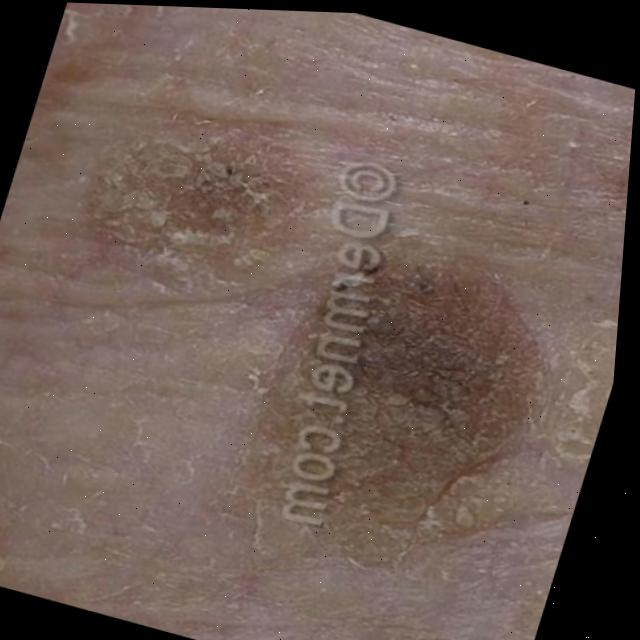Eczema: (261, 254, 521, 534), (121, 122, 262, 255)
